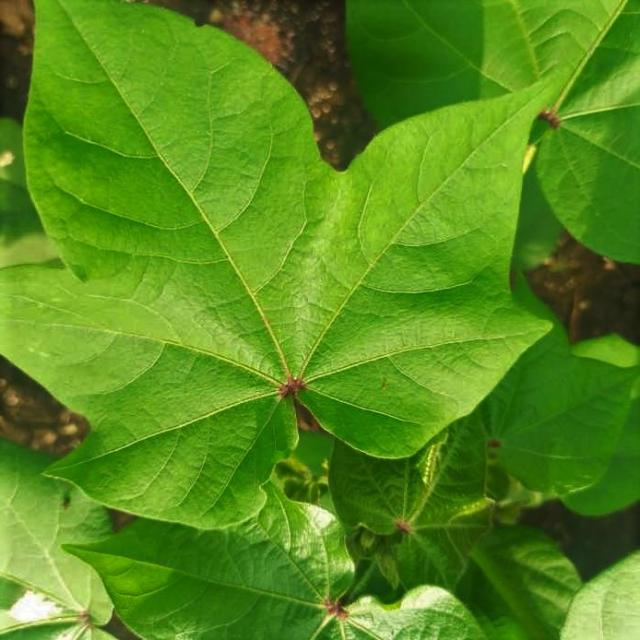Healthy Leaf: (31, 73, 279, 605)
